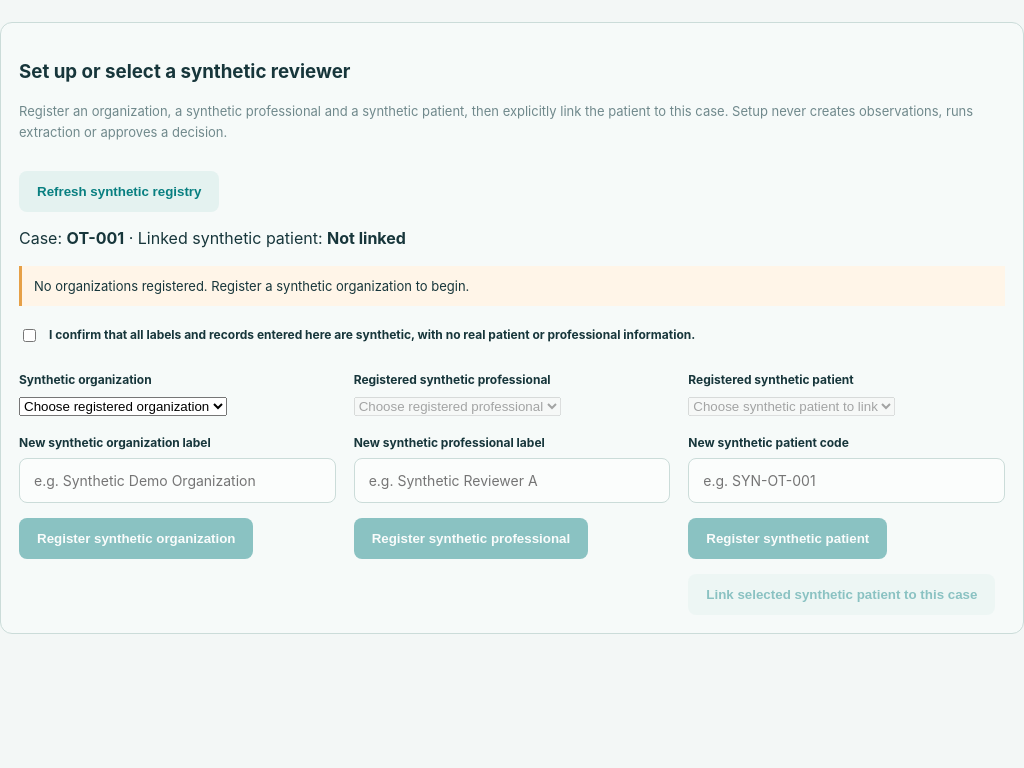
Test: shows request failure and can refresh the registry
Click the button "Refresh synthetic registry" at (119, 192), box [19,171,220,212]
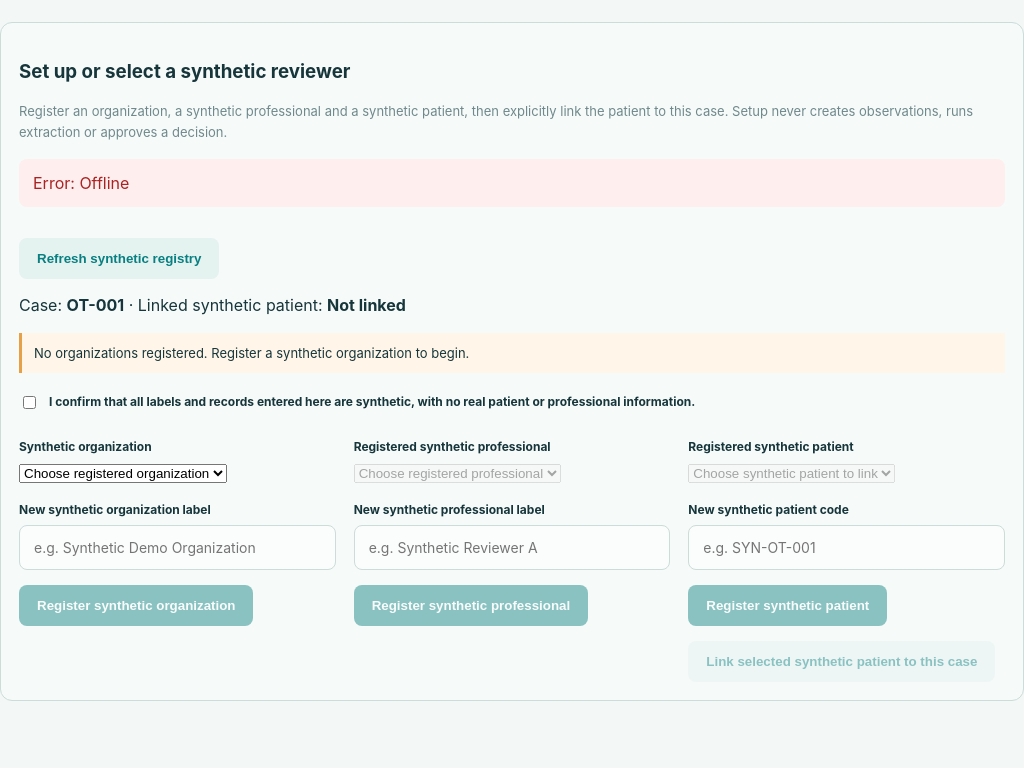
Result: the message shows "Offline" at [33,173,129,193]
Click the button "Refresh synthetic registry" at (119, 258), box [19,238,220,279]
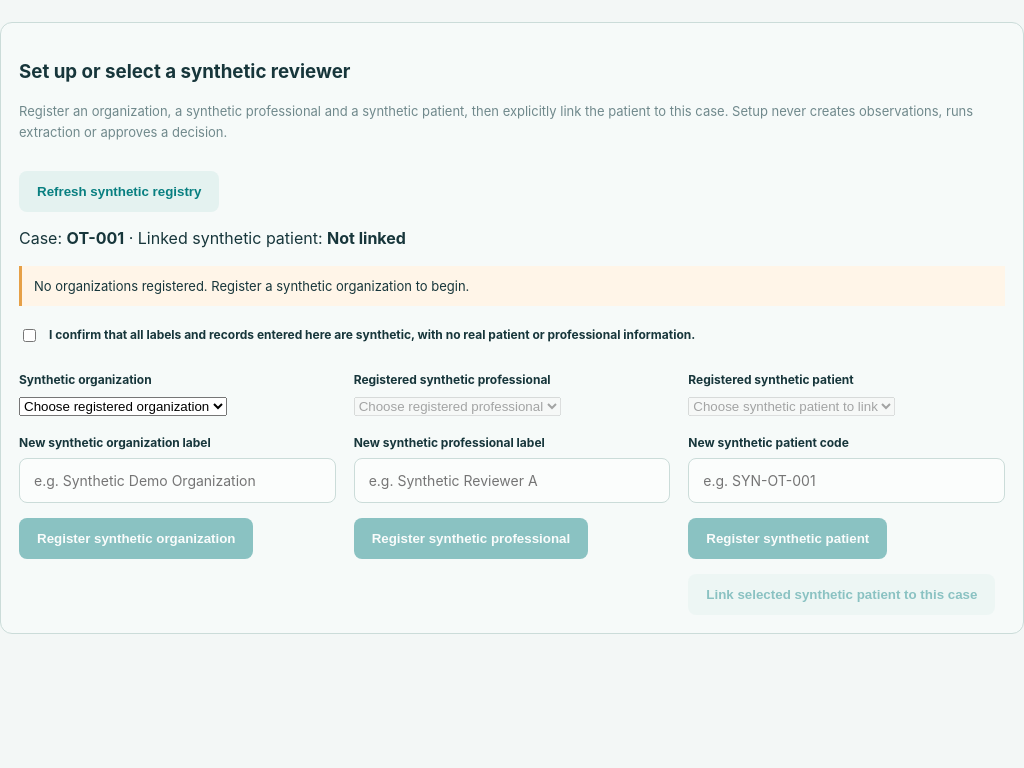
Result: the message "Error: Offline" is gone
